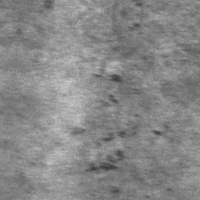rolled-in_scale: (72, 54, 154, 199)
